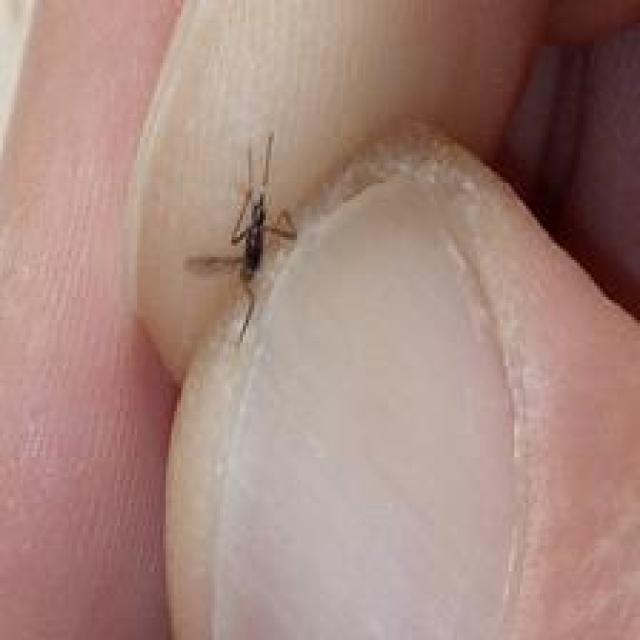Aedes albopictus: (186, 130, 300, 344)
